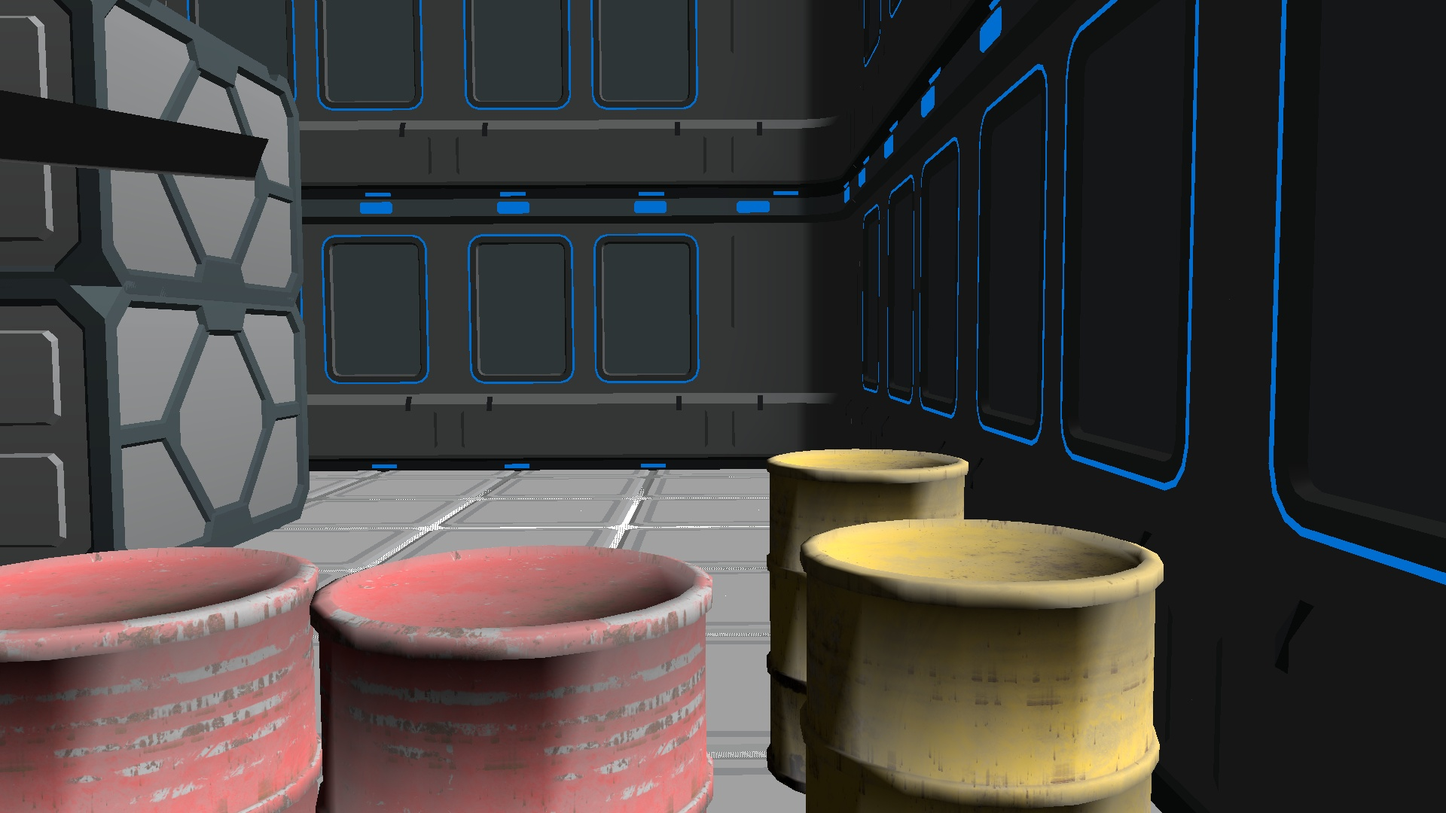toxic barrel: (309, 545, 714, 813), (800, 518, 1163, 813), (0, 547, 319, 813), (765, 449, 969, 795)
